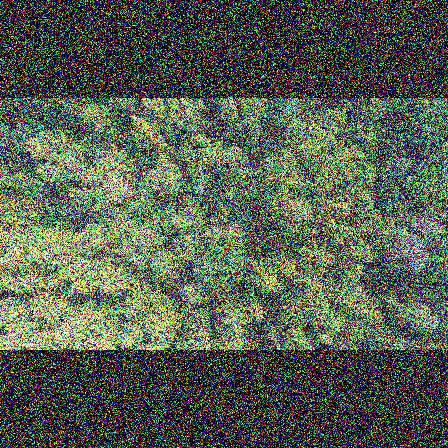Dead: (385, 238, 431, 272), (397, 208, 447, 236), (257, 308, 287, 349)
